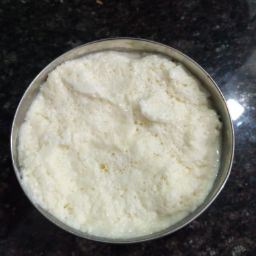Heavy Cream: (7, 40, 244, 256), (74, 124, 226, 225), (42, 66, 244, 132), (25, 112, 71, 203)
